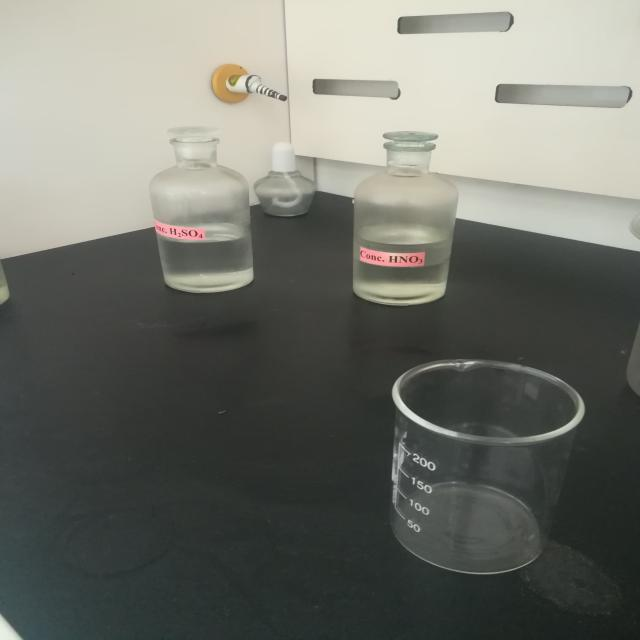Beaker: (364, 337, 607, 595)
Reagent_Bottle: (325, 102, 483, 327), (110, 112, 284, 315)
